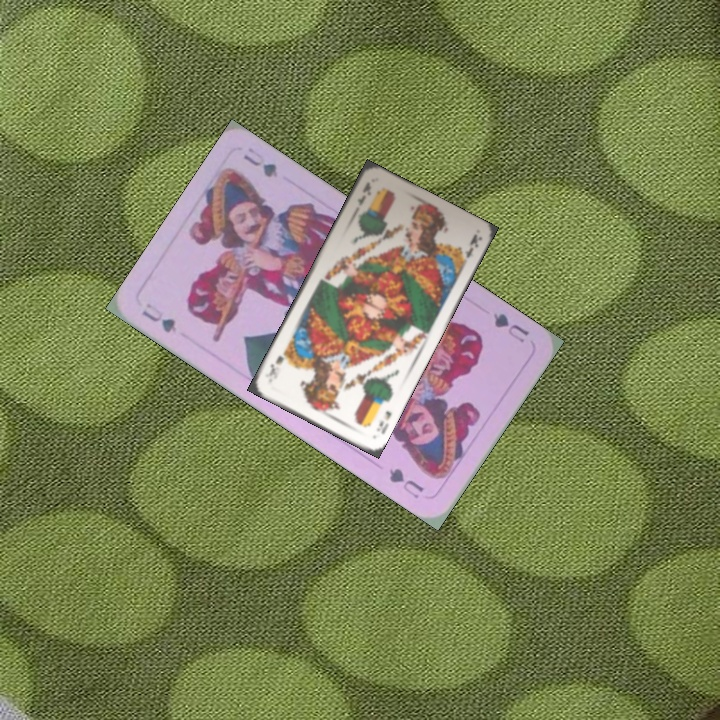EK: (372, 407, 394, 437), (353, 178, 373, 208)
GU: (489, 308, 532, 346), (138, 298, 179, 336)
